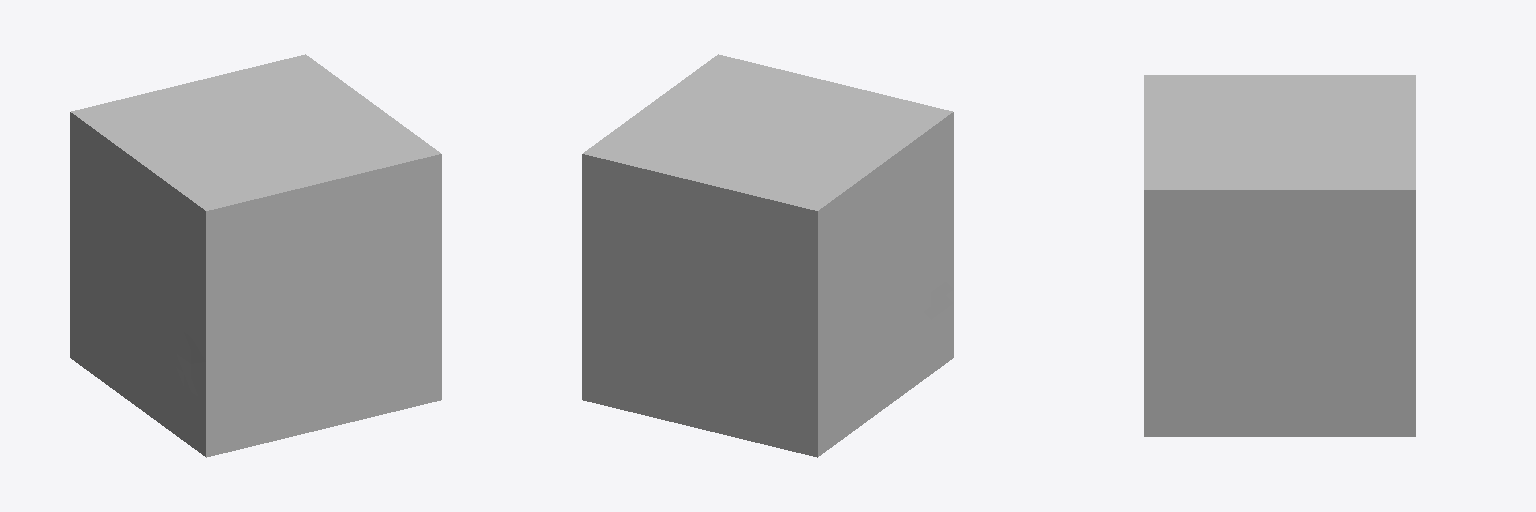
File: Section2_Part1_IsolatedTriangles_Subdivision_SimpleMethod_Level1obj.obj
The picture shows the model from 3 angles: view 1: azimuth 30°, elevation 25°; view 2: azimuth 150°, elevation 25°; view 3: azimuth 270°, elevation 25°; orthographic projection.
Parts seen in each view (by area): view 1: Cube_Cube.001; view 2: Cube_Cube.001; view 3: Cube_Cube.001.
Part boxes in pixels (x1,y1,x2,y2): Cube_Cube.001: (70, 54, 441, 457); Cube_Cube.001: (582, 54, 953, 457); Cube_Cube.001: (1144, 75, 1415, 436).
Size of the model in its own units: 2.11 by 2.11 by 2.11.